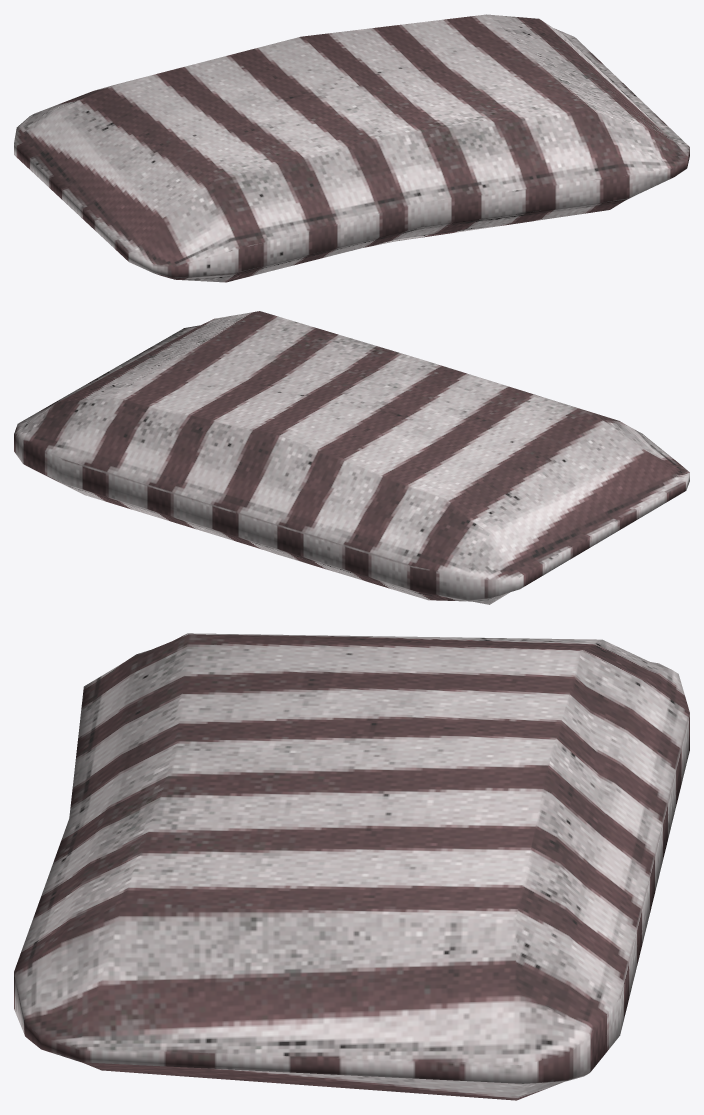
File: Pillow002.glb
3 views of the same model, one above another, from view 1: azimuth 30°, elevation 25°; view 2: azimuth 150°, elevation 25°; view 3: azimuth 270°, elevation 25° (orthographic). The views are drawn at different scales.
Parts seen in each view (by area): view 1: Pillow002; view 2: Pillow002; view 3: Pillow002.
Part boxes in pixels (x1,y1,x2,y2): Pillow002: (14, 14, 689, 282); Pillow002: (14, 311, 689, 604); Pillow002: (14, 633, 689, 1100).
Size of the model in its own units: 0.793 by 0.1618 by 0.5304.
1 material, 1 textured.
